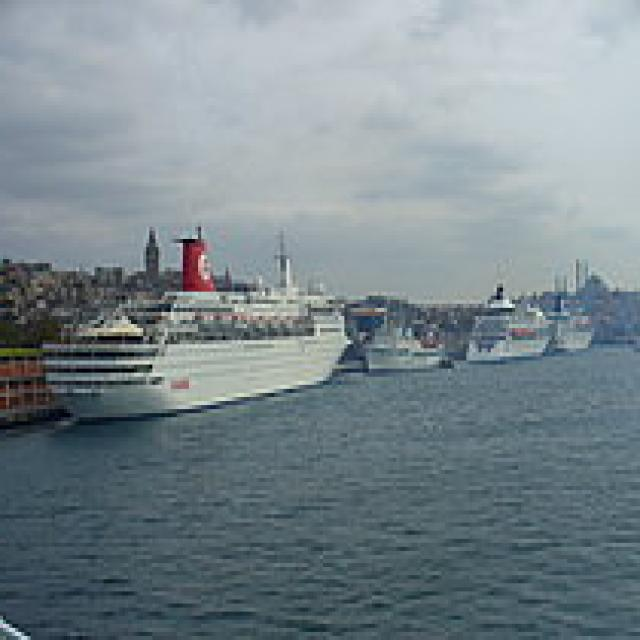Cruise: (43, 231, 360, 417), (466, 276, 558, 360), (548, 288, 600, 352)
